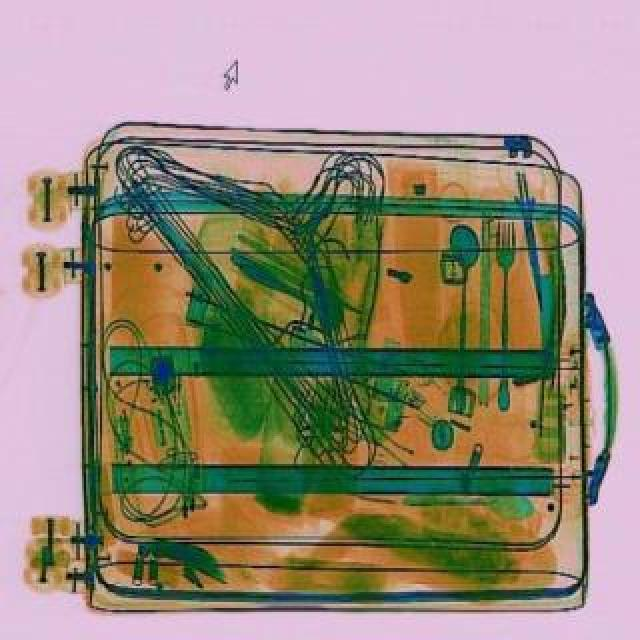knife: (512, 166, 556, 312)
